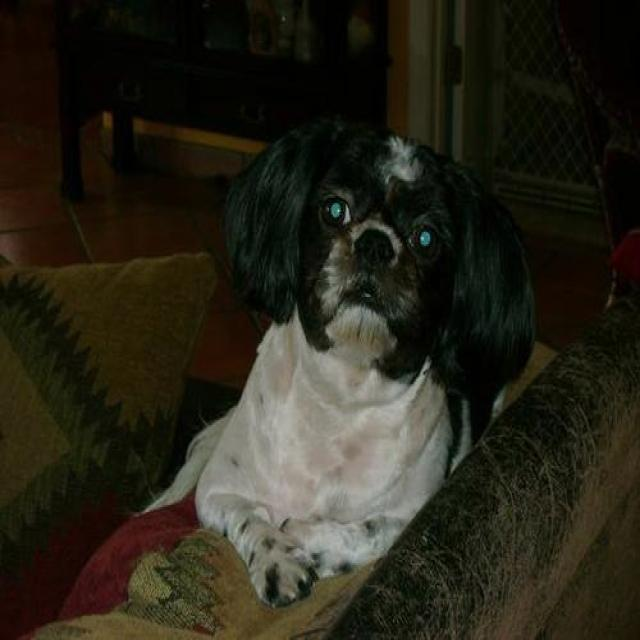shih_tzu: (133, 125, 545, 611)
